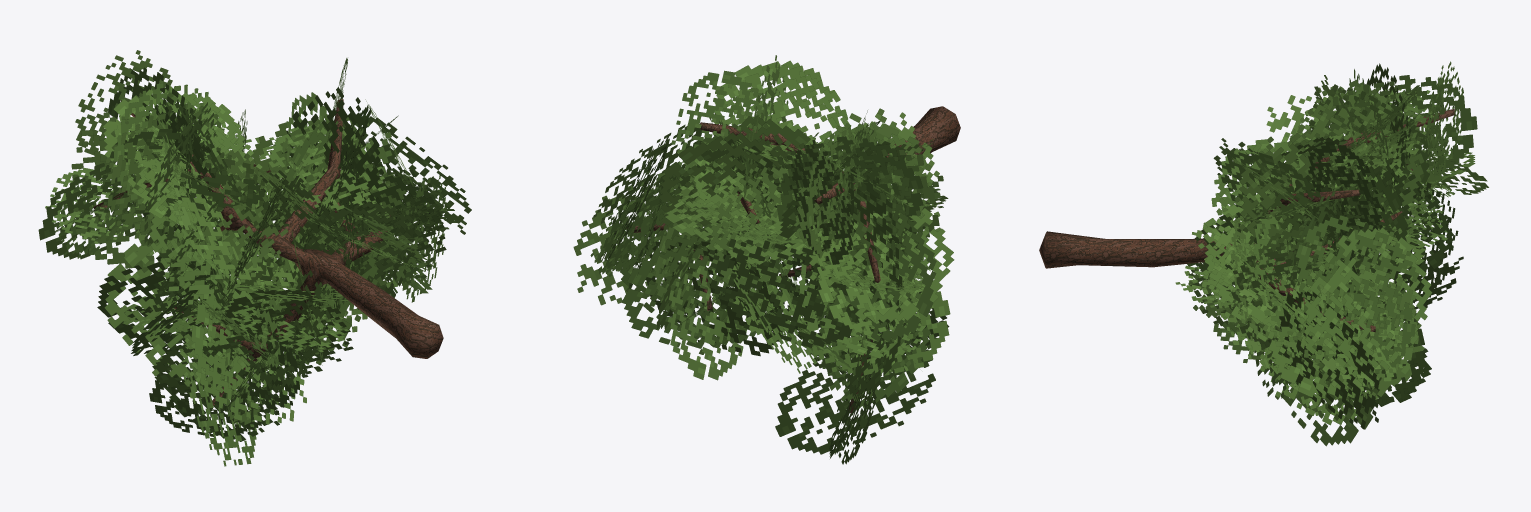
File: Tree1.fbx
The picture shows the model from 3 angles, left to right: view 1: azimuth 30°, elevation 25°; view 2: azimuth 150°, elevation 25°; view 3: azimuth 270°, elevation 25°; orthographic projection. The views are drawn at different scales.
Visible parts, largest first — view 1: Tree1; view 2: Tree1; view 3: Tree1.
Boxes of the visible parts, x1=… form: Tree1: x1=38, y1=50, x2=471, y2=466; Tree1: x1=573, y1=55, x2=960, y2=464; Tree1: x1=1039, y1=61, x2=1488, y2=446.
Size of the model in its own units: 1618 by 1562 by 1588.
